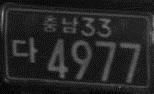3: (81, 15, 95, 38), (97, 17, 111, 38)
4: (45, 38, 69, 78)
7: (118, 41, 141, 85), (94, 40, 116, 83)
9: (70, 39, 93, 80)
다: (11, 36, 38, 64)
충남_O: (42, 13, 78, 35)
